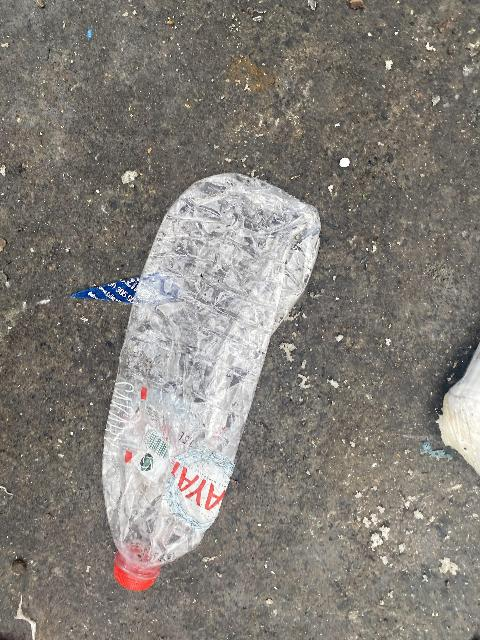Plastik: (95, 178, 335, 595)
